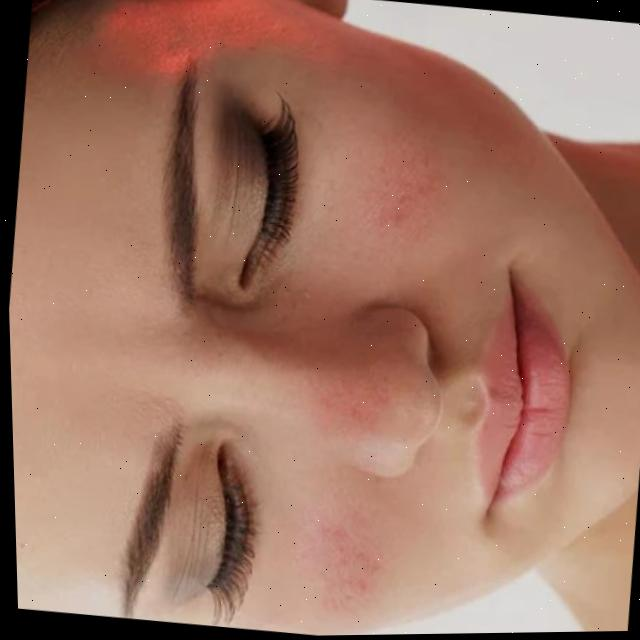Rosacea: (306, 314, 410, 456), (342, 125, 451, 250), (292, 498, 391, 617)
